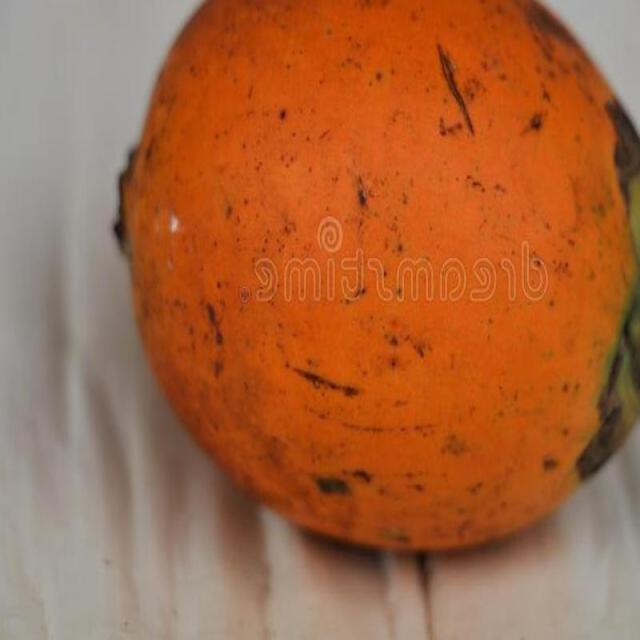good: (116, 0, 639, 560)
